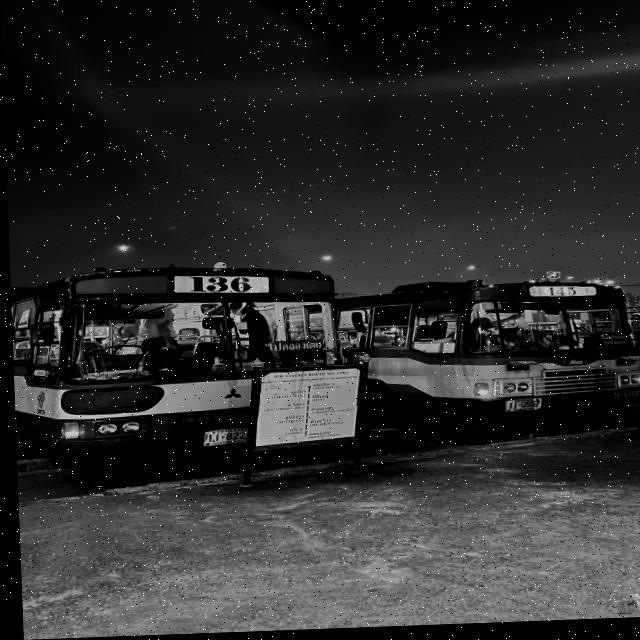BMTA-bus: (8, 261, 359, 476), (335, 272, 640, 430)
Bus-Line-Number: (177, 272, 259, 298), (542, 288, 579, 303)
Destination-Sign-Normal: (260, 339, 322, 364), (584, 335, 630, 351)
